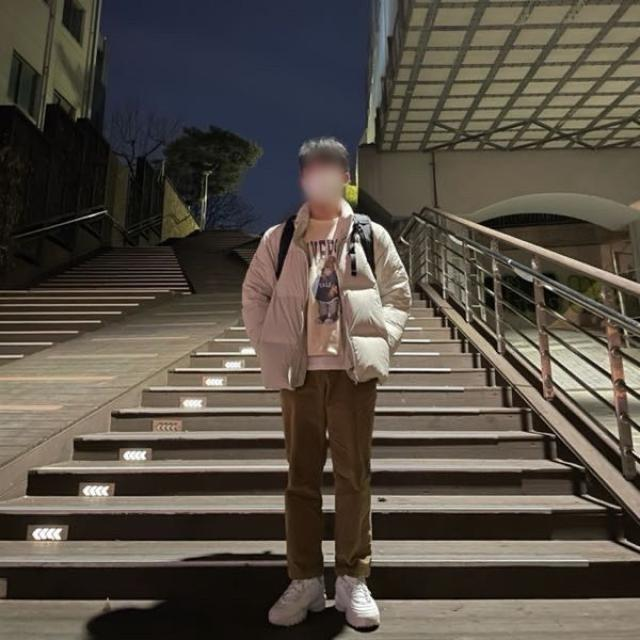cottonpants: (281, 369, 379, 584)
padding: (247, 205, 417, 395)
